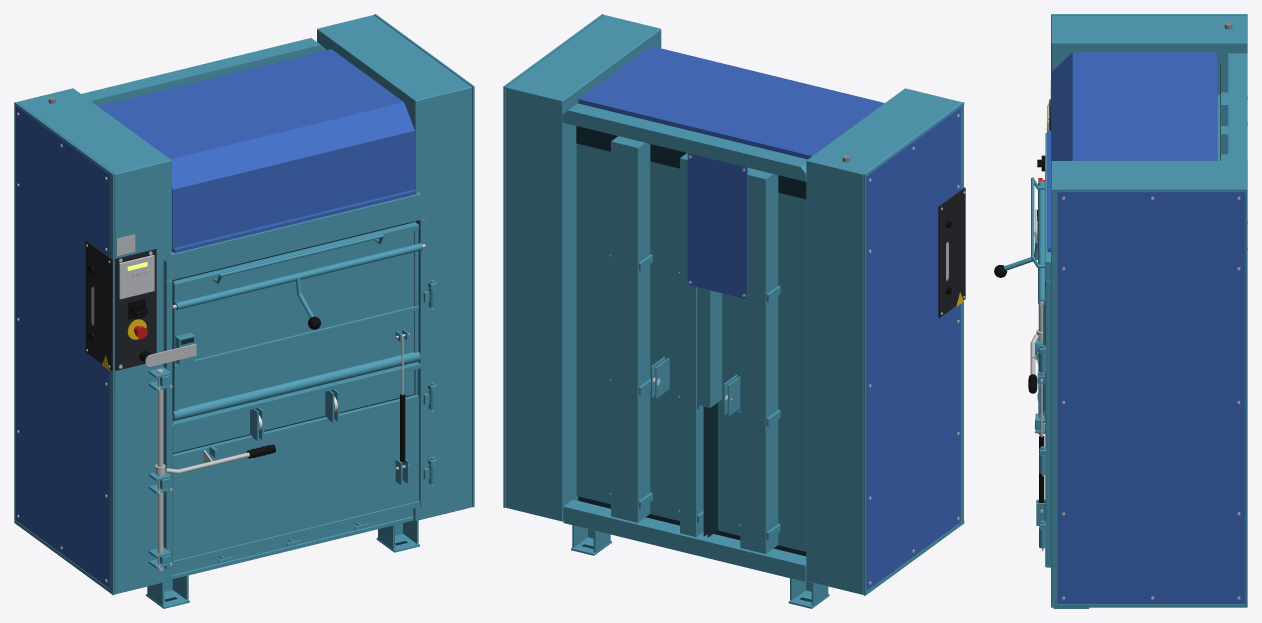
The model's file is modelo.glb.
The picture shows the model from 3 angles, left to right: view 1: azimuth 30°, elevation 25°; view 2: azimuth 150°, elevation 25°; view 3: azimuth 270°, elevation 25°; orthographic projection.
Visible parts, largest first — view 1: Austropressen_APV100; view 2: Austropressen_APV100; view 3: Austropressen_APV100.
Boxes of the visible parts, bbox=[...] form: Austropressen_APV100: bbox=[14, 14, 474, 608]; Austropressen_APV100: bbox=[503, 14, 965, 608]; Austropressen_APV100: bbox=[994, 14, 1247, 608].
Size of the model in its own units: 1.54 by 1.82 by 0.929.
